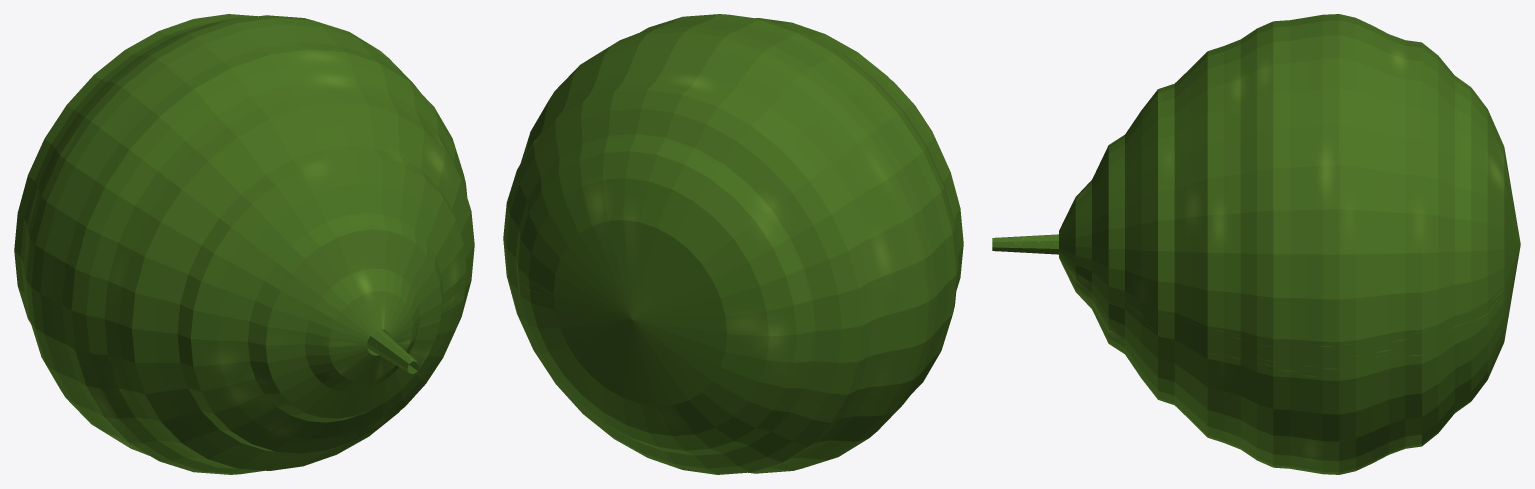
The model's file is apple_09_realistic.obj.
3 renders of one model, left to right at view 1: azimuth 30°, elevation 25°; view 2: azimuth 150°, elevation 25°; view 3: azimuth 270°, elevation 25°, orthographic. The views are drawn at different scales.
Bounding box in the file's own units: 2 × 2 × 2.29.
1 material, 1 textured.
